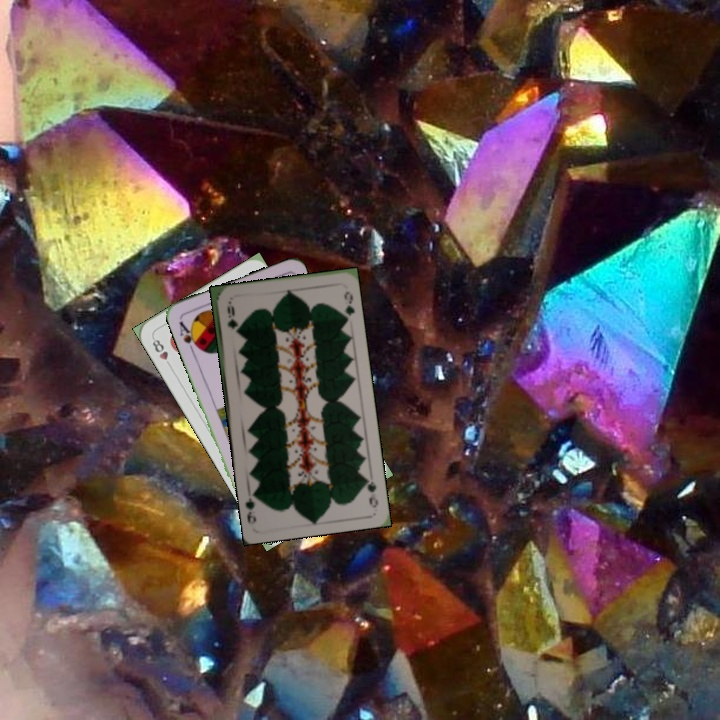G9: (360, 472, 381, 510), (223, 299, 239, 337)
H8: (148, 333, 174, 370)
SA: (175, 317, 202, 355)
